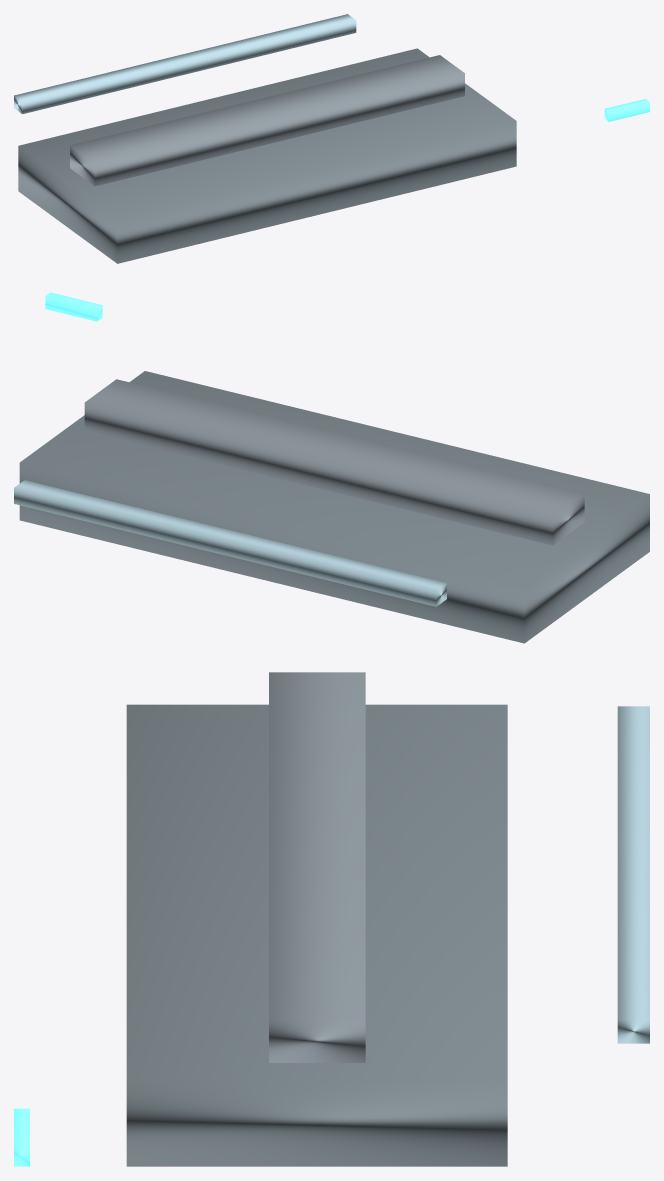
Rendered from ice-mine-service-deck-lod2.glb.
3 renders of one model, top to bottom at view 1: azimuth 30°, elevation 25°; view 2: azimuth 150°, elevation 25°; view 3: azimuth 270°, elevation 25°, orthographic. The views are drawn at different scales.
Visible parts, largest first — view 1: ice-mine-service-deck-main, ice-mine-service-deck-underbeam, ice-mine-service-deck-frost-strip, ice-mine-service-deck-marker; view 2: ice-mine-service-deck-main, ice-mine-service-deck-underbeam, ice-mine-service-deck-frost-strip, ice-mine-service-deck-marker; view 3: ice-mine-service-deck-main, ice-mine-service-deck-underbeam, ice-mine-service-deck-frost-strip, ice-mine-service-deck-marker.
Part boxes in pixels (x1=…): ice-mine-service-deck-main: x1=18, y1=48, x2=516, y2=263; ice-mine-service-deck-underbeam: x1=70, y1=55, x2=464, y2=186; ice-mine-service-deck-frost-strip: x1=14, y1=14, x2=356, y2=114; ice-mine-service-deck-marker: x1=604, y1=99, x2=649, y2=121; ice-mine-service-deck-main: x1=19, y1=371, x2=649, y2=643; ice-mine-service-deck-underbeam: x1=84, y1=379, x2=584, y2=545; ice-mine-service-deck-frost-strip: x1=14, y1=480, x2=446, y2=606; ice-mine-service-deck-marker: x1=45, y1=292, x2=102, y2=321; ice-mine-service-deck-main: x1=126, y1=704, x2=507, y2=1166; ice-mine-service-deck-underbeam: x1=269, y1=672, x2=365, y2=1062; ice-mine-service-deck-frost-strip: x1=617, y1=706, x2=649, y2=1043; ice-mine-service-deck-marker: x1=14, y1=1108, x2=29, y2=1166.
Bounding box in the file's own units: 4.16 × 0.55 × 2.37.
